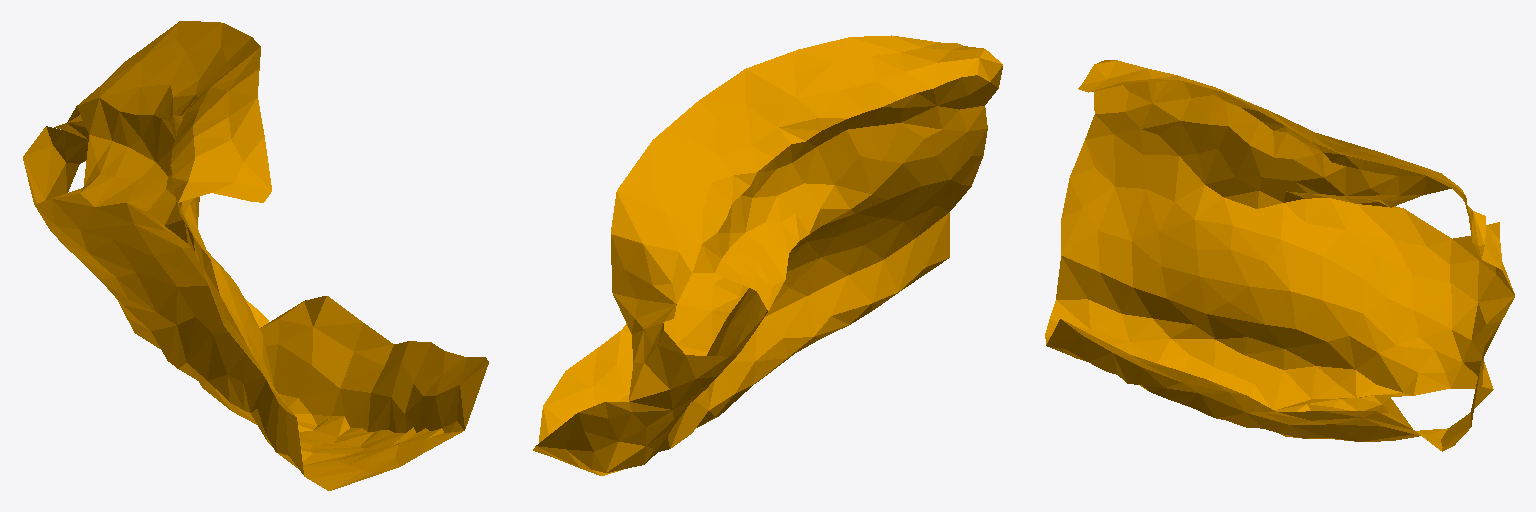
The robot description file, URDF, robot "init":
<?xml version='1.0' encoding='utf-8'?>
<robot name="init">
<link name="link_0"><inertial><mass value="1.0" /><origin rpy="0 0 0" xyz="0.000000 0.000000 0.000000" /><inertia ixx="1.0" ixy="0.0" ixz="0.0" iyy="1.0" iyz="0.0" izz="1.0" /></inertial><visual><origin rpy="0 0 0" xyz="0.000000 0.000000 0.000000" /><geometry><mesh filename="./clothHuman/cloth/449.obj" /></geometry></visual><collision><origin rpy="0 0 0" xyz="0.000000 0.000000 0.000000" /><geometry><mesh filename="./clothHuman/cloth/449.obj" /></geometry></collision></link></robot>

--- Render facts (derived) ---
The picture shows the robot from 3 angles, left to right: view 1: azimuth 30°, elevation 25°; view 2: azimuth 150°, elevation 25°; view 3: azimuth 270°, elevation 25°; orthographic projection.
Robot: init — 1 links, 0 joints (none); root link link_0; default pose: all joints at 0.
Links seen in each view (by area): view 1: link_0; view 2: link_0; view 3: link_0.
Link boxes in pixels (<box>): link_0: <box>23,21,488,490</box>; link_0: <box>533,35,1002,475</box>; link_0: <box>1045,60,1514,451</box>.
Bounding box of the posed robot: 2.27 × 3.71 × 2.73 m (x, y, z).
Meshes: 1 distinct files referenced, 1 mesh visuals loaded (1 OBJ).